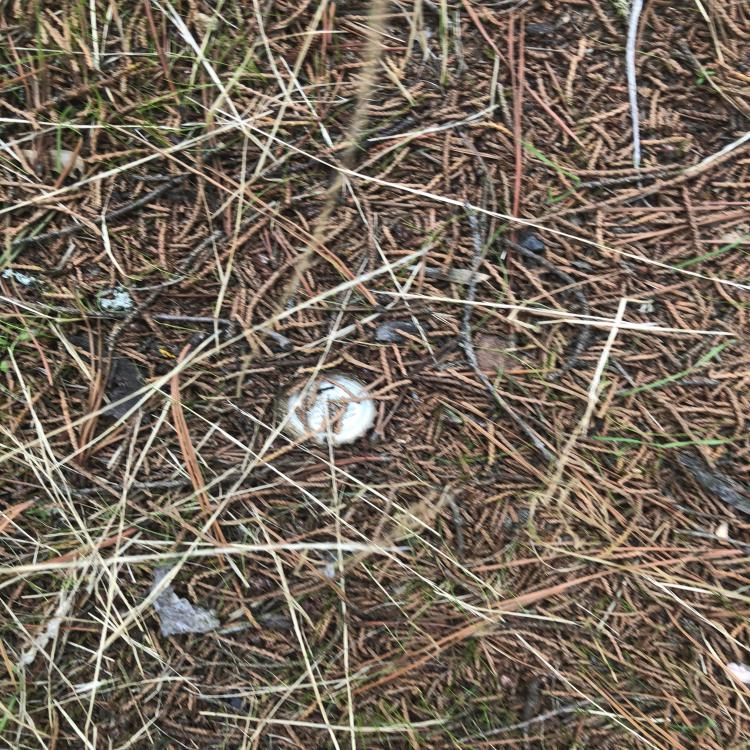Metal bottle cap: (276, 369, 379, 448)
